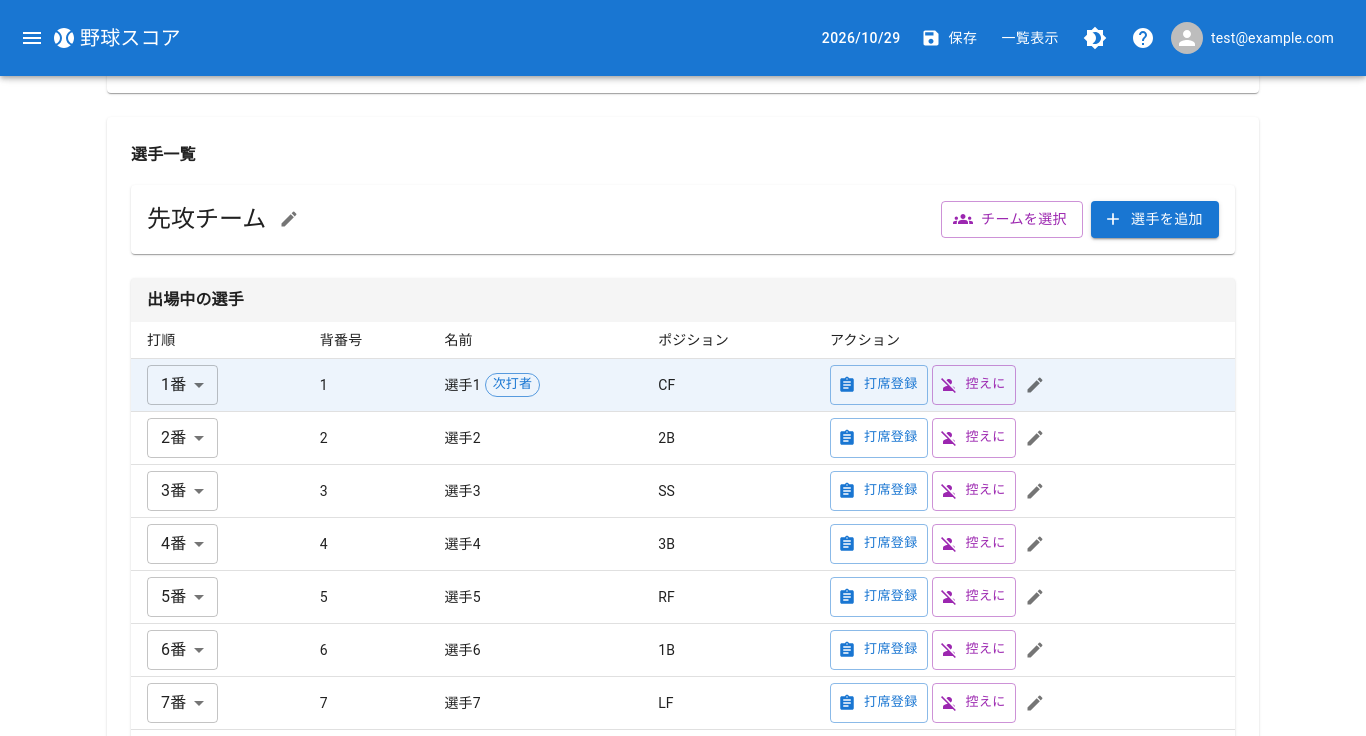
Scenario: MainApp - 試合データの損失防止 › 未保存の変更がある状態で「新しい試合」を選ぶと確認ダイアログが出て、キャンセルするとデータが残る
(page scrolled)
Click the button "打席登録" in the row of "選手1".
click(879, 384)  # box [830,364,928,404]
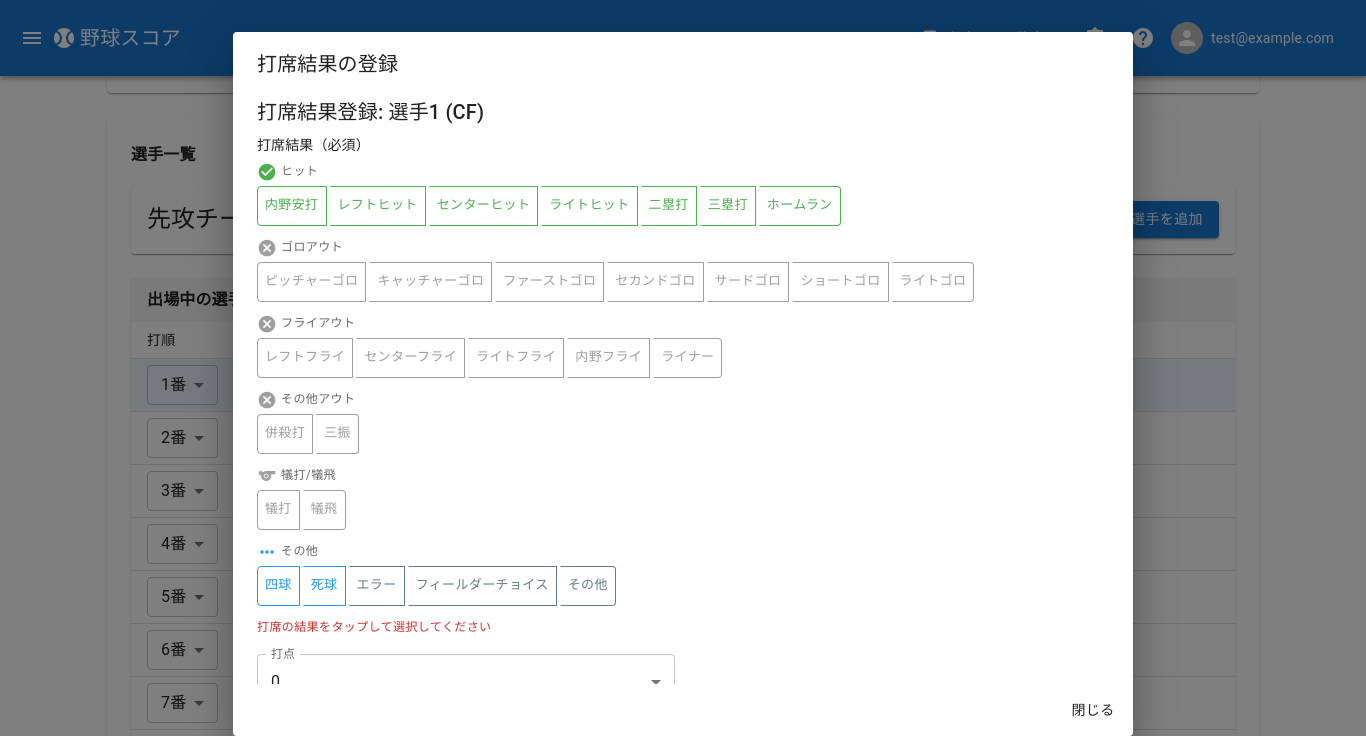
Expected: the heading "打席結果登録: 選手1 (CF)" is shown, [257,100,484,124]
Click the button "内野安打".
click(292, 206)  # box [257,186,326,226]
(page scrolled)
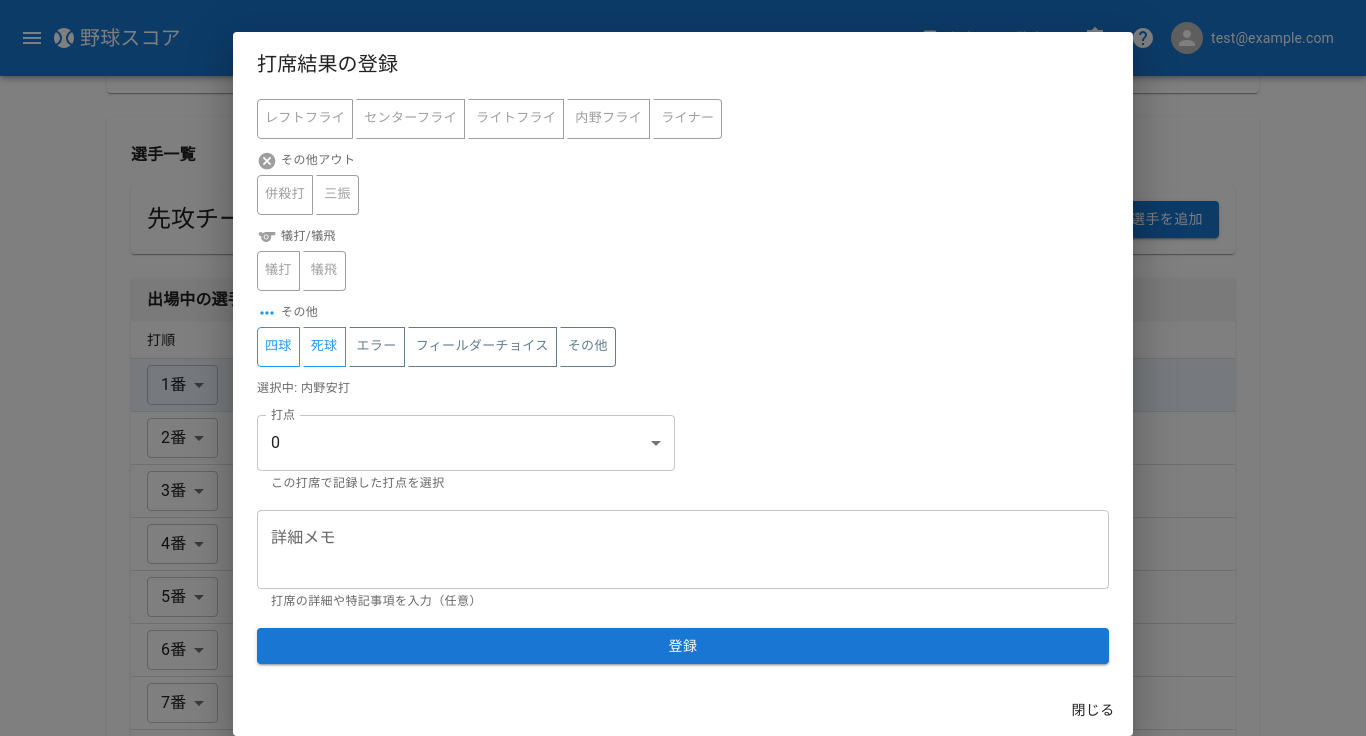
Click the button "登録".
click(683, 646)  # box [257,628,1109,664]
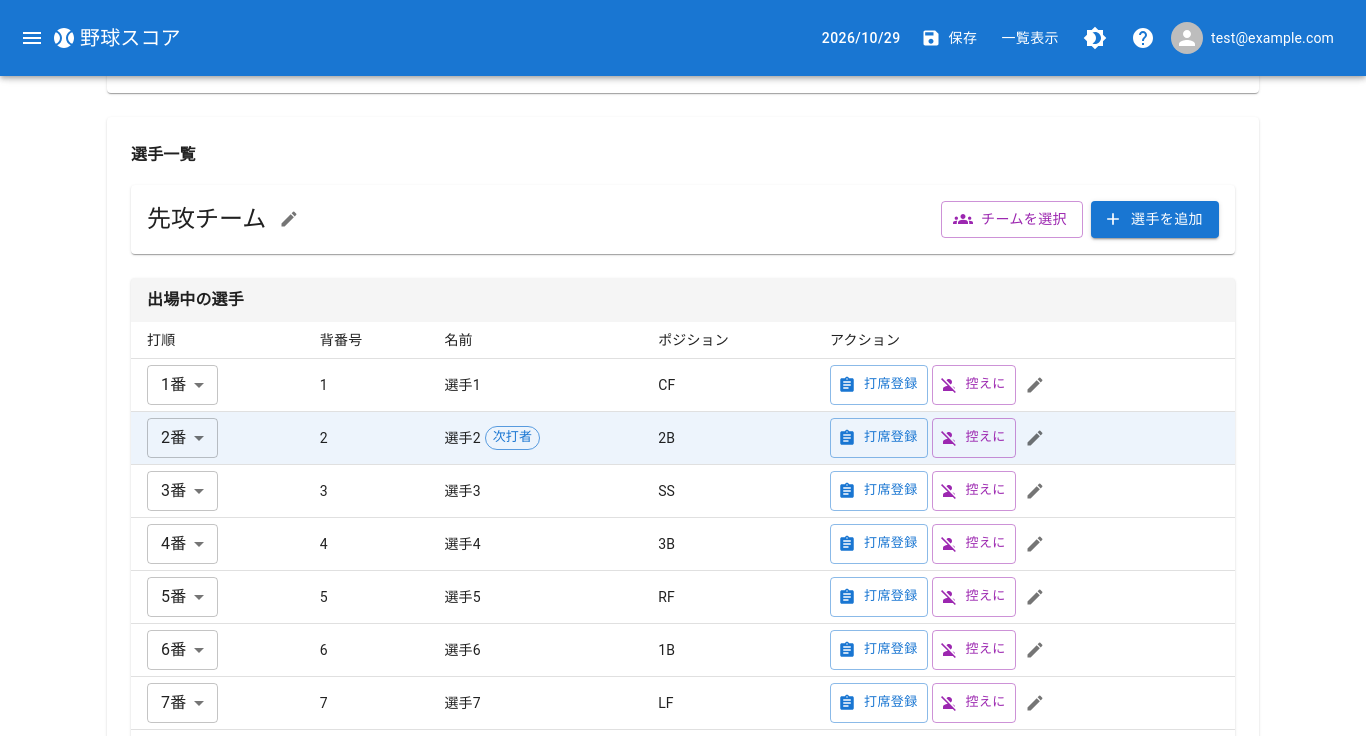
Click the button named "メニューを開く".
click(32, 38)  # box [12,18,52,58]
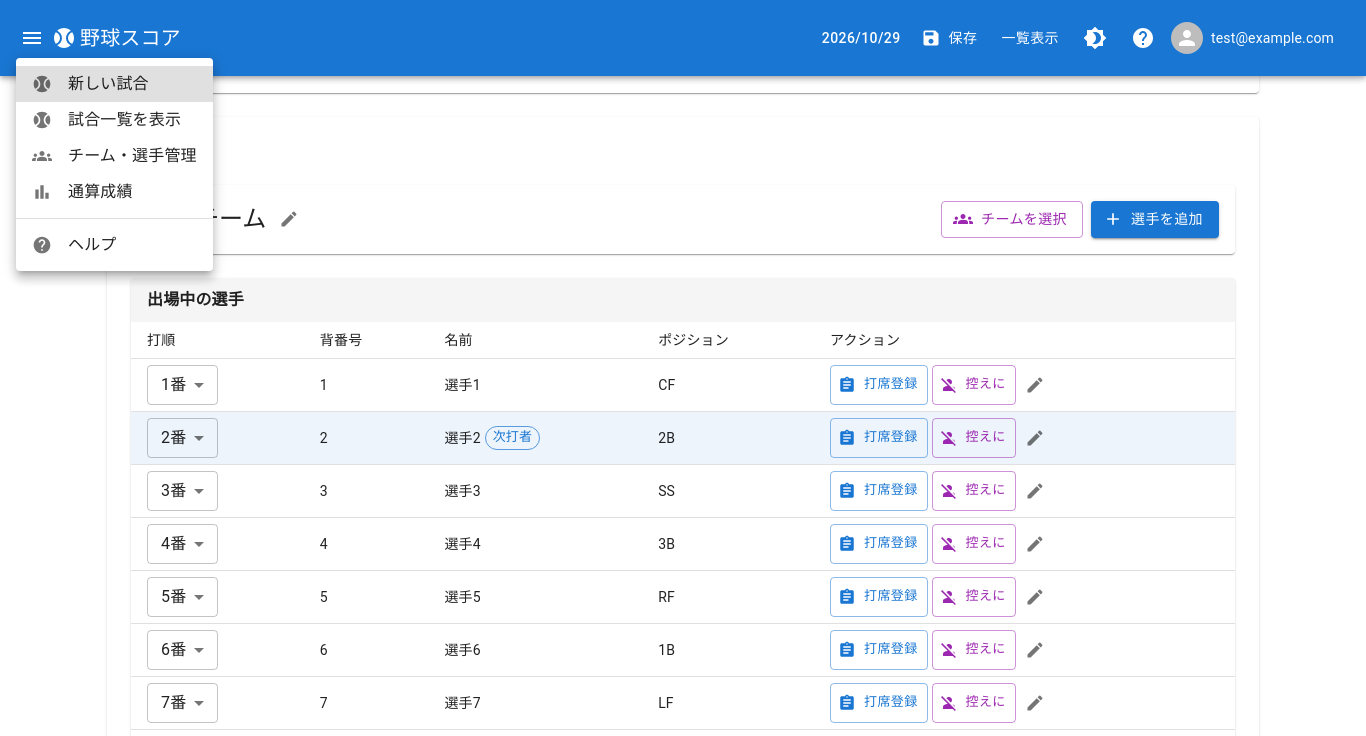
Click the menu item "新しい試合".
click(114, 84)  # box [16,66,213,102]
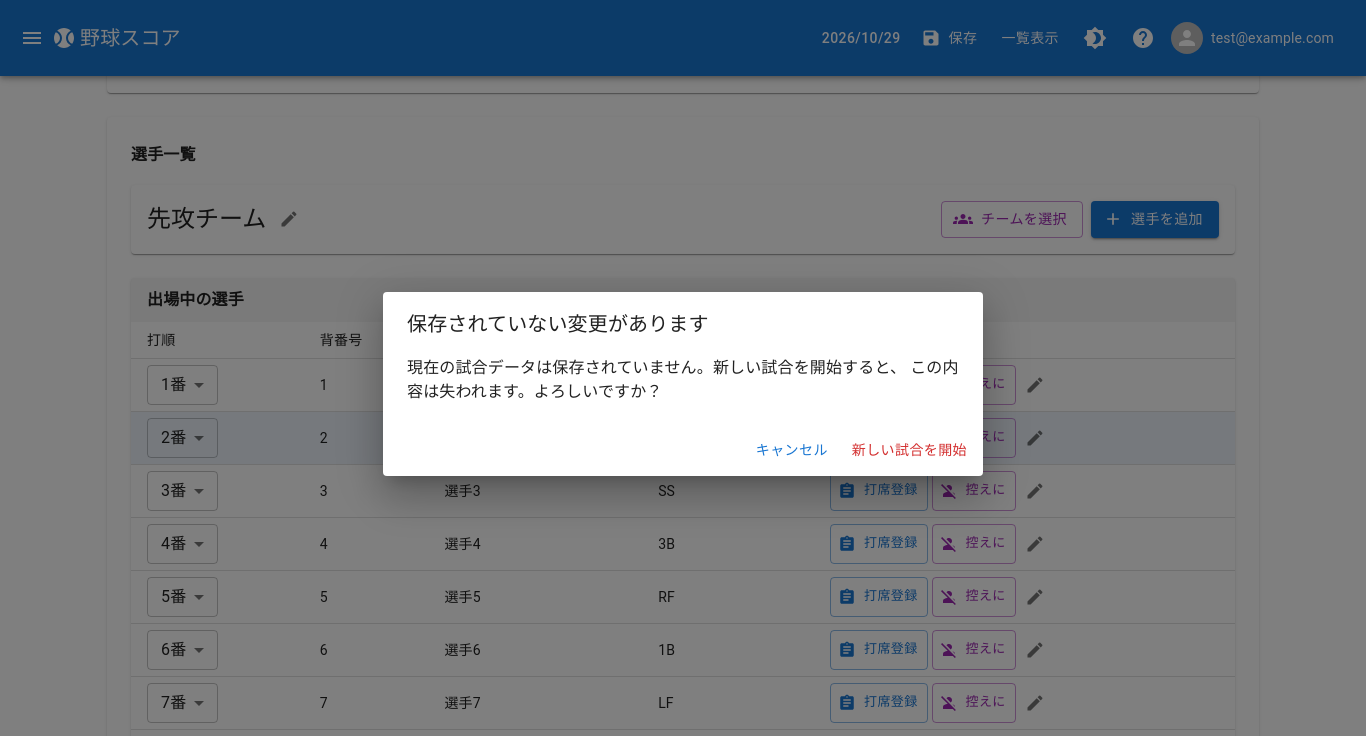
Expected: the heading "保存されていない変更があります" is shown, [407,312,709,336]
Click the button "キャンセル".
click(792, 450)  # box [748,432,836,468]
(page scrolled)
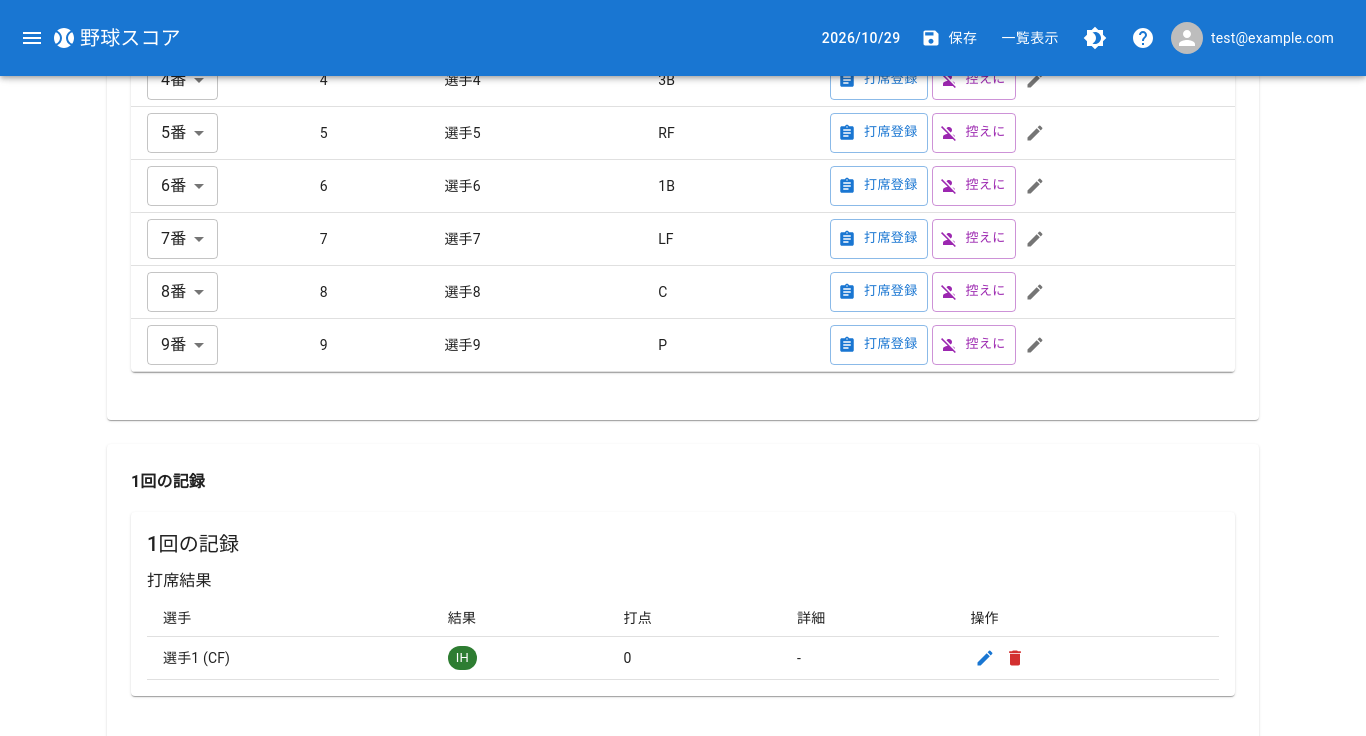
Expected: the button named "編集" is shown, [970,643,1000,673]
Expected: the heading "保存されていない変更があります" is gone
